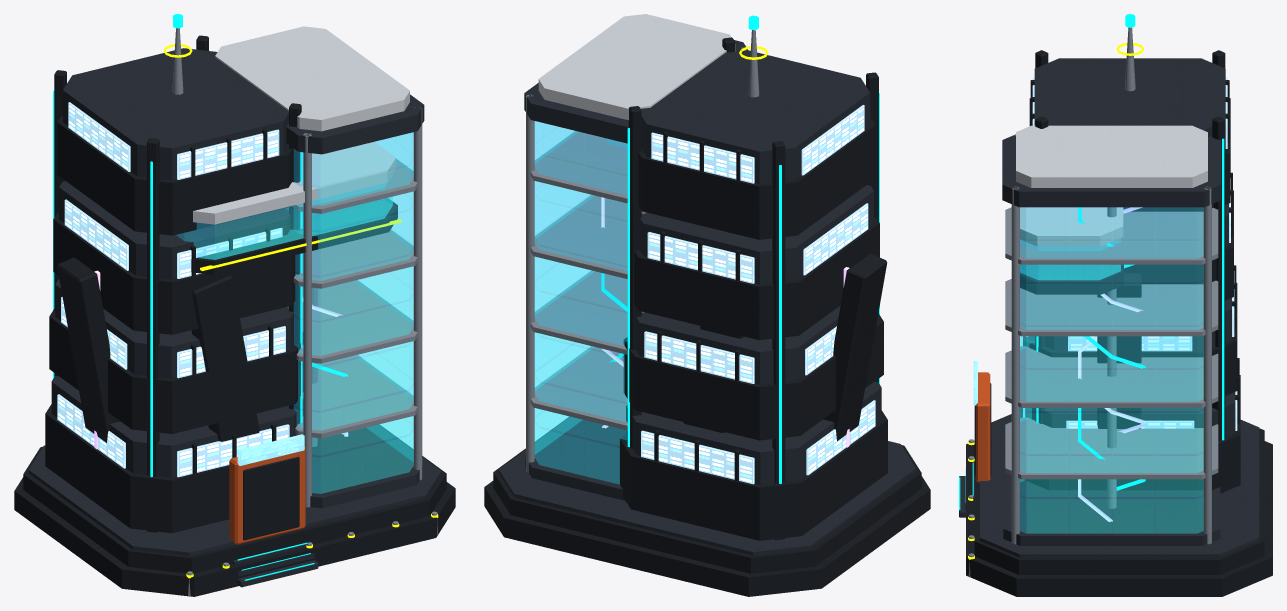
File: bldg_10_r1_05.glb
3 renders of one model, left to right at view 1: azimuth 30°, elevation 25°; view 2: azimuth 150°, elevation 25°; view 3: azimuth 270°, elevation 25°, orthographic. The views are drawn at different scales.
Parts seen in each view (by area): view 1: Bldg10_C05_gunmetal, Bldg10_C05_carbon_slate, Bldg10_C05_glass_cyan, Bldg10_C05_steel_machined, Bldg10_C05_aero_white, Bldg10_C05_window_lit, Bldg10_C05_led_cyan, Bldg10_C05_accent_orange, Bldg10_C05_marquee, Bldg10_C05_led_amber; view 2: Bldg10_C05_gunmetal, Bldg10_C05_carbon_slate, Bldg10_C05_glass_cyan, Bldg10_C05_steel_machined, Bldg10_C05_window_lit, Bldg10_C05_aero_white, Bldg10_C05_led_cyan; view 3: Bldg10_C05_glass_cyan, Bldg10_C05_steel_machined, Bldg10_C05_carbon_slate, Bldg10_C05_gunmetal, Bldg10_C05_aero_white, Bldg10_C05_window_lit, Bldg10_C05_led_cyan, Bldg10_C05_accent_orange, Bldg10_C05_led_uv.
Part boxes in pixels (x1,y1,x2,y2): Bldg10_C05_gunmetal: (14,35,455,596); Bldg10_C05_carbon_slate: (28,48,441,587); Bldg10_C05_glass_cyan: (177,132,413,493); Bldg10_C05_steel_machined: (172,28,437,596); Bldg10_C05_aero_white: (193,26,409,224); Bldg10_C05_window_lit: (57,102,289,477); Bldg10_C05_led_cyan: (53,14,347,580); Bldg10_C05_accent_orange: (229,447,305,544); Bldg10_C05_marquee: (237,434,304,465); Bldg10_C05_led_amber: (163,44,438,578); Bldg10_C05_gunmetal: (484,37,930,596); Bldg10_C05_carbon_slate: (498,40,916,555); Bldg10_C05_glass_cyan: (534,121,627,484); Bldg10_C05_steel_machined: (526,30,912,472); Bldg10_C05_window_lit: (641,105,875,484); Bldg10_C05_aero_white: (538,14,735,119); Bldg10_C05_led_cyan: (601,15,879,483); Bldg10_C05_glass_cyan: (1020,207,1203,533); Bldg10_C05_steel_machined: (968,27,1218,577); Bldg10_C05_carbon_slate: (959,58,1259,557); Bldg10_C05_gunmetal: (966,50,1272,596); Bldg10_C05_aero_white: (1016,125,1207,246); Bldg10_C05_window_lit: (1023,77,1237,430); Bldg10_C05_led_cyan: (959,14,1224,510); Bldg10_C05_accent_orange: (975,372,990,482); Bldg10_C05_led_uv: (1078,207,1145,521).
Size of the model in its own units: 12.01 by 17.22 by 10.23.
11 materials, 11 textured.
